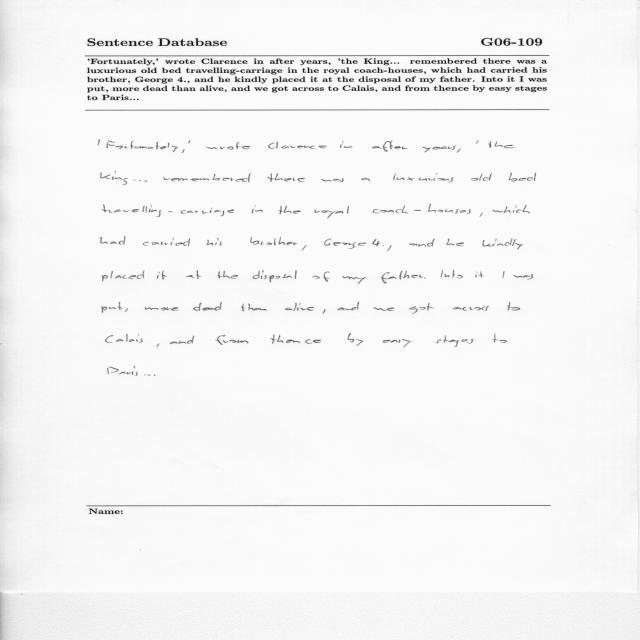word: (103, 204, 234, 217), (372, 204, 471, 214), (107, 140, 179, 152), (163, 173, 251, 182), (393, 173, 454, 182), (381, 271, 423, 284), (253, 270, 297, 282), (102, 271, 145, 282), (435, 335, 474, 347), (324, 238, 366, 249), (270, 335, 321, 344), (482, 239, 523, 250), (143, 238, 190, 247), (314, 206, 349, 218), (268, 142, 327, 149), (372, 141, 408, 152), (101, 171, 128, 185), (251, 237, 298, 245), (206, 142, 250, 150), (267, 173, 305, 182), (106, 334, 143, 343), (216, 335, 249, 345), (492, 205, 530, 213), (409, 303, 434, 314), (423, 146, 461, 153), (193, 302, 222, 311), (285, 302, 314, 311), (383, 339, 411, 348), (108, 366, 136, 375), (509, 173, 536, 182), (409, 238, 435, 247), (102, 302, 123, 313), (101, 236, 126, 245), (347, 334, 364, 346), (241, 304, 266, 312), (279, 206, 301, 215), (170, 336, 194, 344), (313, 271, 330, 282), (343, 276, 366, 284), (453, 306, 489, 311), (441, 270, 463, 278), (338, 302, 360, 310), (471, 173, 492, 181), (218, 271, 238, 279), (494, 142, 515, 149), (186, 270, 202, 279), (493, 333, 507, 343), (145, 307, 179, 311), (446, 239, 464, 246), (508, 302, 521, 311), (207, 238, 222, 245), (513, 274, 533, 279), (321, 178, 344, 182), (157, 271, 167, 280), (252, 205, 263, 213), (340, 141, 352, 148), (374, 307, 395, 311), (135, 371, 151, 376), (475, 271, 484, 278), (373, 239, 381, 246), (387, 246, 392, 252), (488, 141, 492, 148), (134, 180, 148, 182), (362, 178, 371, 181), (302, 246, 307, 251), (480, 212, 483, 217), (323, 309, 326, 314), (503, 271, 505, 278), (182, 149, 185, 153), (188, 140, 191, 144), (476, 140, 479, 144), (125, 308, 128, 312), (157, 343, 160, 347), (98, 140, 100, 145), (424, 278, 426, 279), (383, 245, 384, 246)
